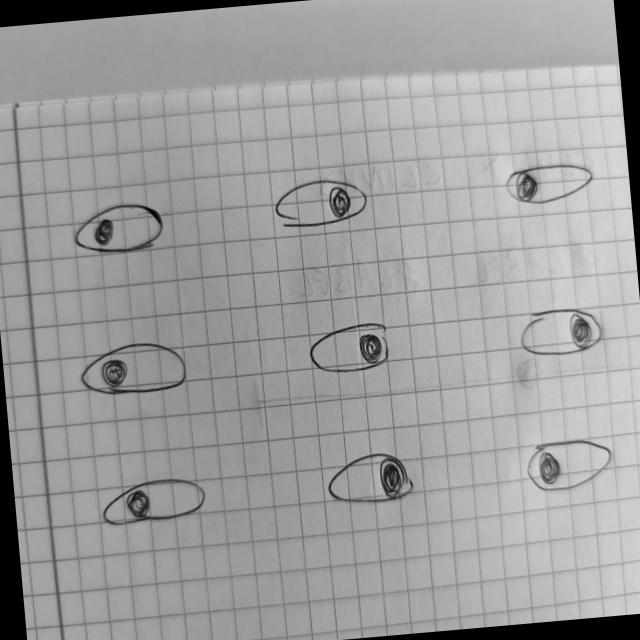toggle: (76, 337, 194, 403), (98, 471, 211, 530), (268, 172, 377, 233), (66, 198, 171, 261), (519, 434, 620, 496), (322, 447, 420, 509), (305, 316, 398, 379), (515, 300, 609, 361), (501, 158, 600, 209)
